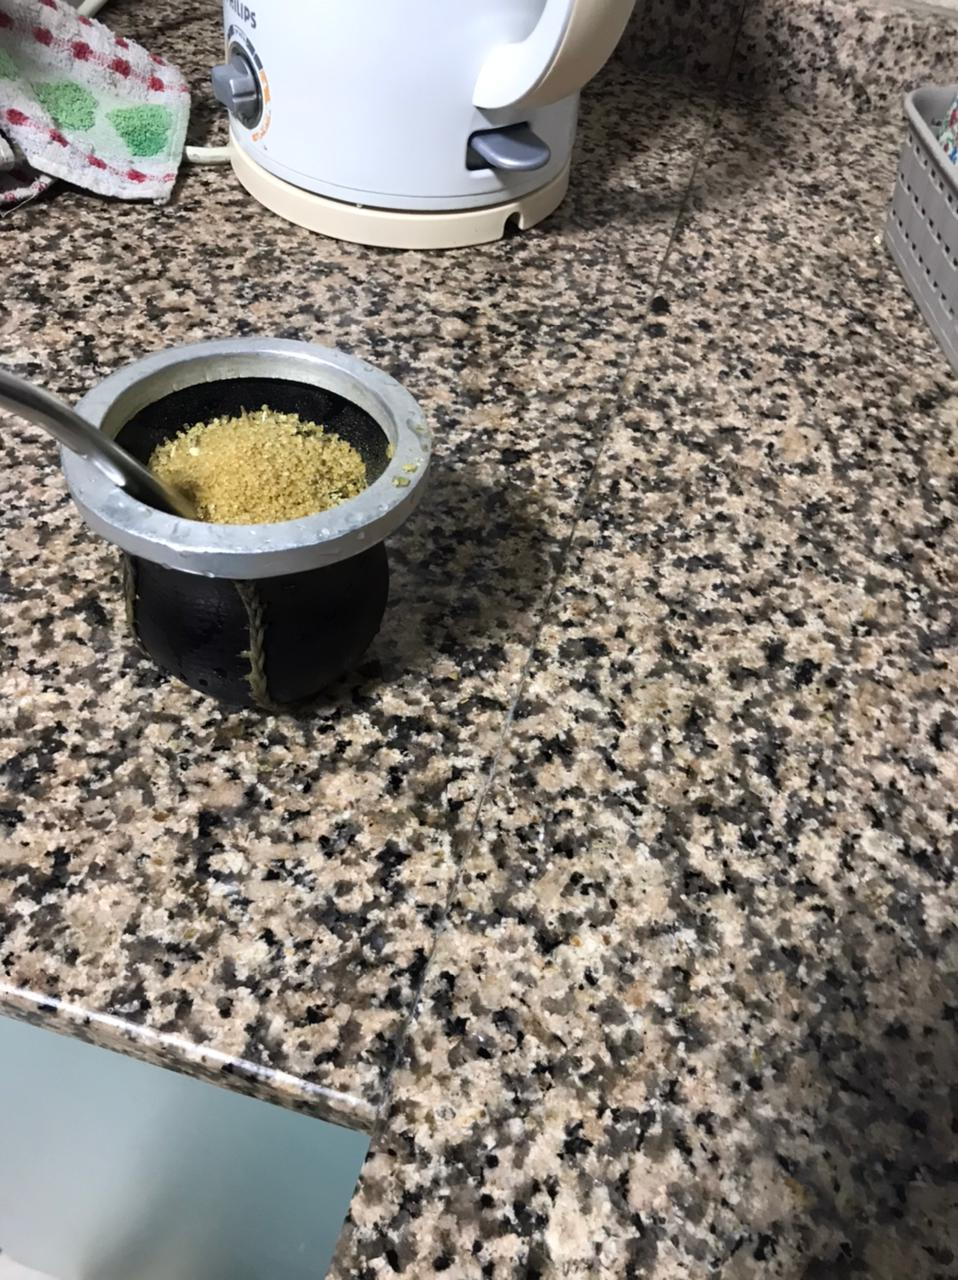mate: (5, 329, 443, 726)
